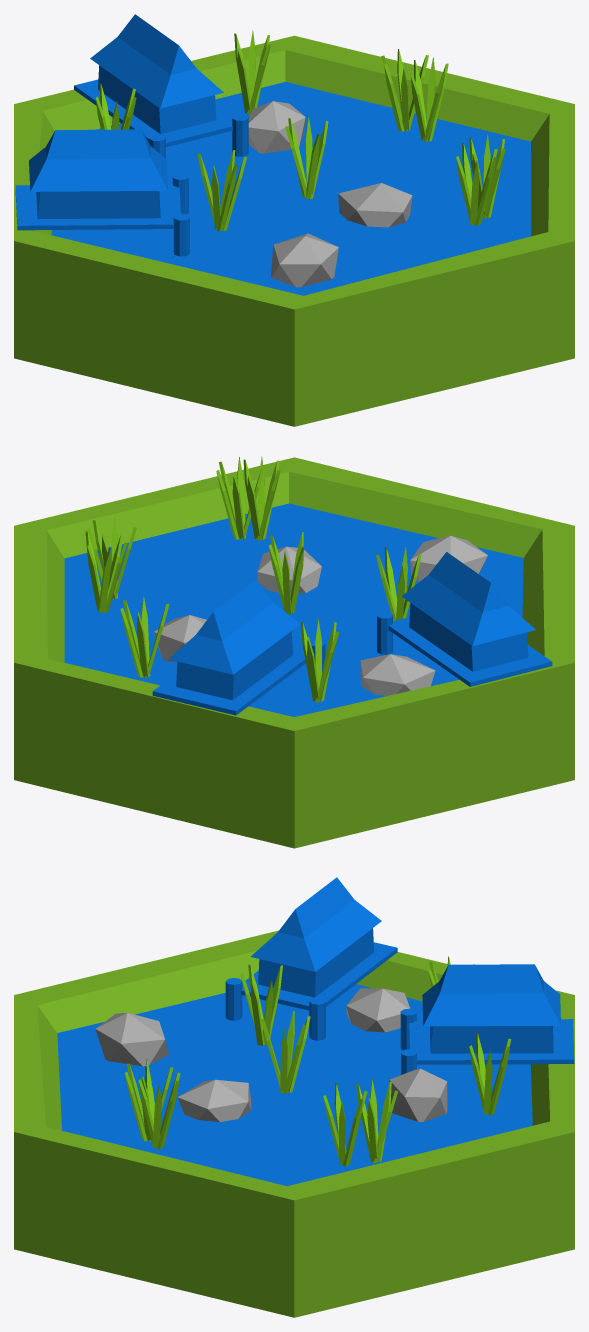
File: Casas_Lago_Cerrado_2.fbx
The picture shows the model from 3 angles, top to bottom: view 1: azimuth 30°, elevation 25°; view 2: azimuth 150°, elevation 25°; view 3: azimuth 270°, elevation 25°; orthographic projection.
Visible parts, largest first — view 1: Casas_Lago_Cerrado_2; view 2: Casas_Lago_Cerrado_2; view 3: Casas_Lago_Cerrado_2.
Boxes of the visible parts, <box> form: Casas_Lago_Cerrado_2: <box>14,14,574,426</box>; Casas_Lago_Cerrado_2: <box>14,456,574,848</box>; Casas_Lago_Cerrado_2: <box>14,877,574,1317</box>.
Size of the model in its own units: 200 by 67.29 by 173.
